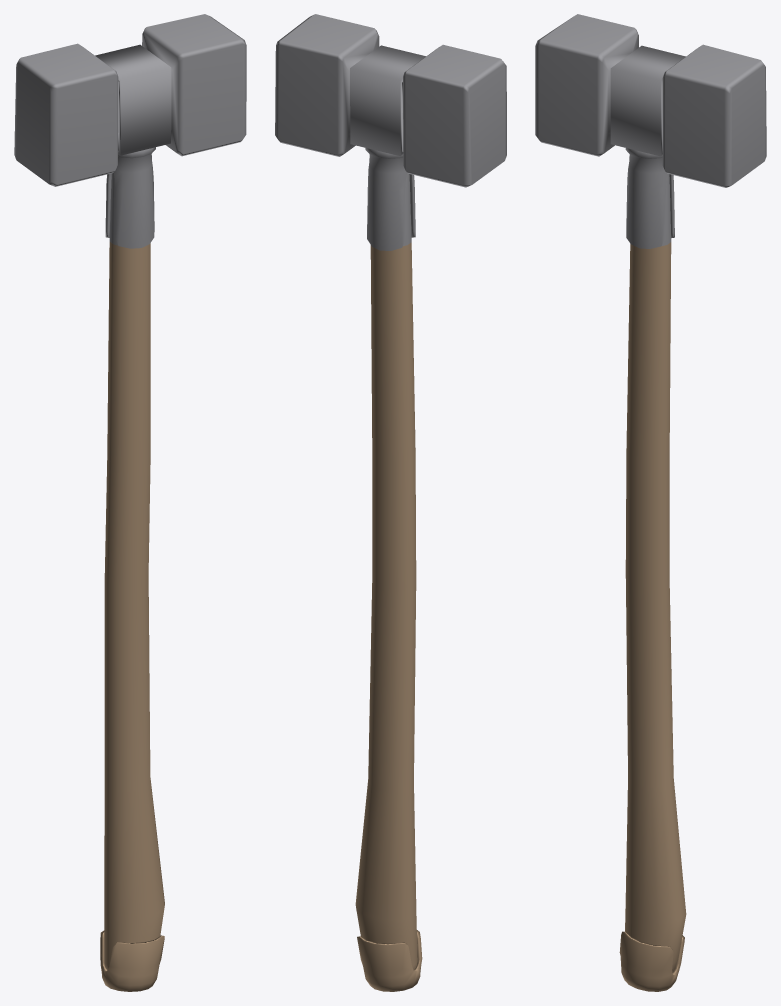
File: hammer.glb
3 renders of one model, left to right at view 1: azimuth 30°, elevation 25°; view 2: azimuth 150°, elevation 25°; view 3: azimuth 330°, elevation 25°, orthographic.
Parts seen in each view (by area): view 1: hammer; view 2: hammer; view 3: hammer.
Boxes of the visible parts, <box> form: hammer: <box>14,14,246,991</box>; hammer: <box>275,14,506,991</box>; hammer: <box>535,14,766,991</box>.
Bounding box in the file's own units: 0.401 × 1.84 × 0.1397.
